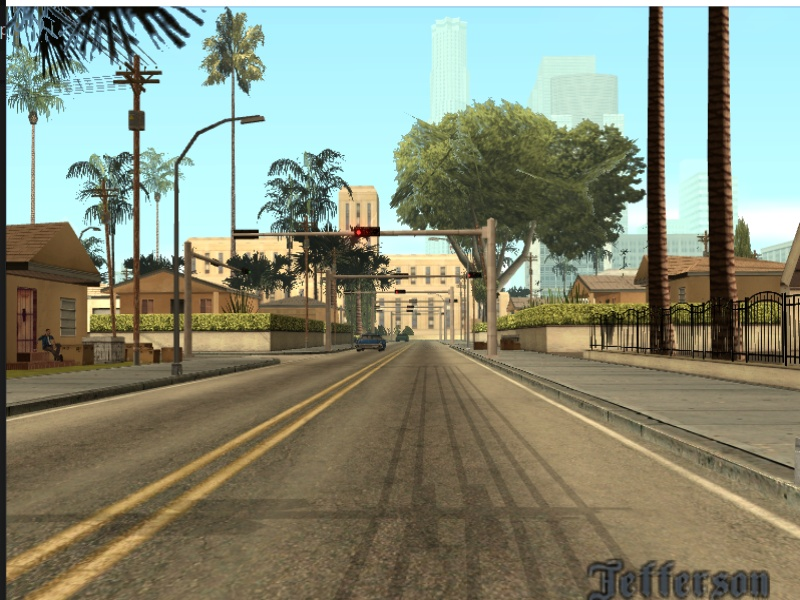person: (37, 324, 67, 368)
pole: (171, 148, 188, 379), (479, 225, 508, 359), (182, 244, 197, 357), (323, 271, 335, 354), (445, 285, 459, 346)
vehicle: (356, 332, 389, 353), (396, 333, 411, 343)
